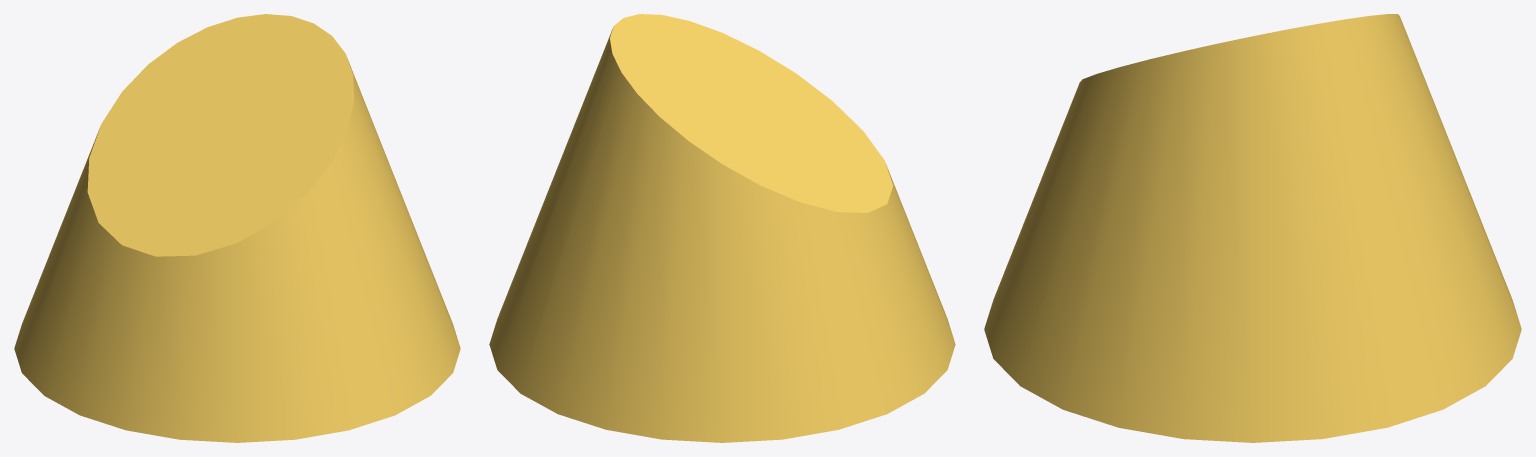
The model's file is Cono_Oblicuo_BaseA.fbx.
The picture shows the model from 3 angles, left to right: view 1: azimuth 30°, elevation 25°; view 2: azimuth 150°, elevation 25°; view 3: azimuth 270°, elevation 25°; orthographic projection. The views are drawn at different scales.
Visible parts, largest first — view 1: Difference2; view 2: Difference2; view 3: Difference2.
Part boxes in pixels (box(x1,y1,x2,y2)): Difference2: box(14, 14, 460, 442); Difference2: box(489, 14, 955, 442); Difference2: box(984, 14, 1521, 442).
Bounding box in the file's own units: 100 × 72.45 × 100.
